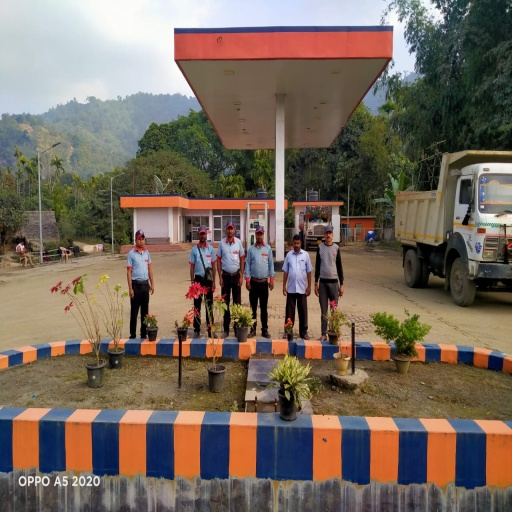roof: (168, 20, 395, 161)
